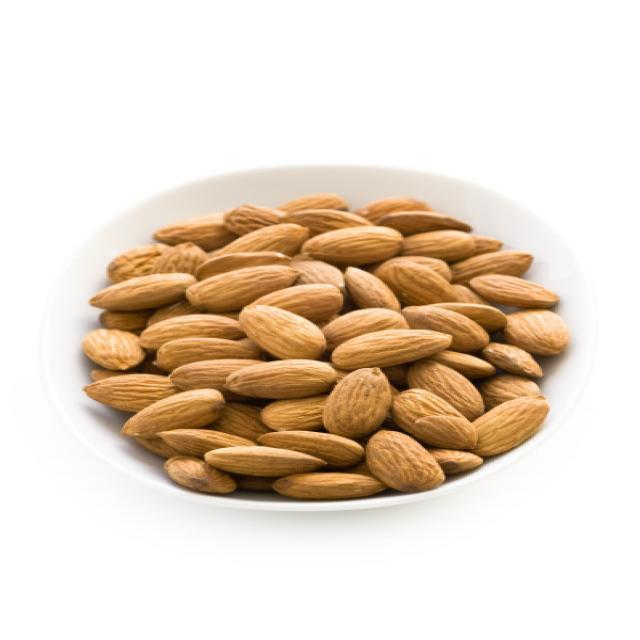almond: (189, 264, 303, 312), (332, 330, 454, 374), (392, 388, 480, 448), (470, 395, 550, 460), (119, 389, 224, 437), (364, 428, 444, 491), (403, 361, 483, 419), (207, 442, 327, 480), (324, 368, 391, 436), (239, 308, 330, 358), (403, 304, 493, 353), (324, 308, 409, 358), (244, 284, 344, 326), (225, 359, 334, 396), (375, 261, 468, 304), (140, 313, 241, 351), (152, 335, 248, 374), (303, 224, 404, 261), (256, 428, 362, 463), (83, 372, 180, 410), (86, 273, 193, 306), (470, 272, 560, 311), (501, 307, 568, 359), (217, 221, 310, 255), (272, 470, 382, 498), (260, 393, 333, 432), (82, 327, 145, 371), (453, 249, 533, 283), (343, 264, 401, 308), (401, 231, 477, 262)
